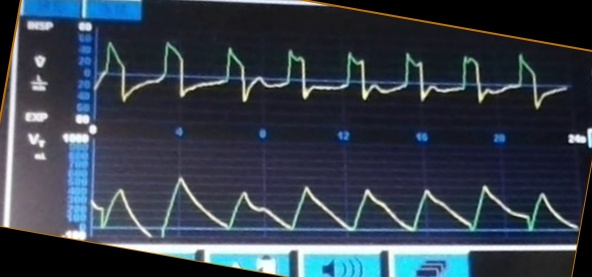Premature_cycling Flow: (99, 39, 565, 121)
Premature_cycling Volume: (94, 168, 576, 241)
